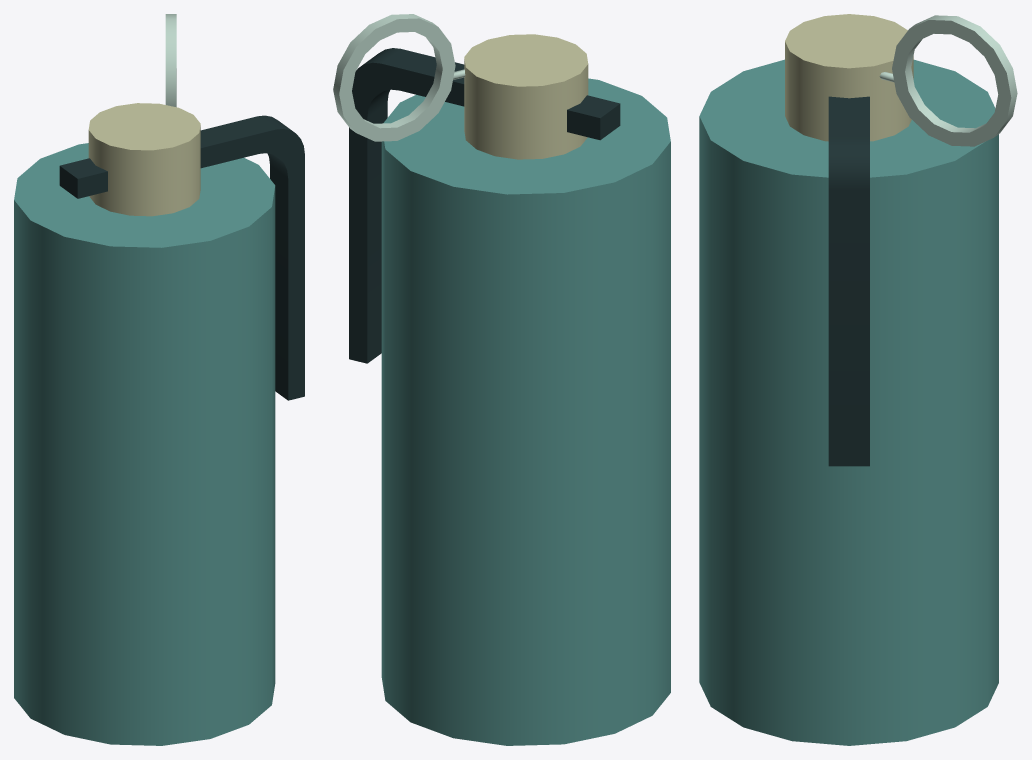
Rendered from Granade 1.fbx.
3 renders of one model, left to right at view 1: azimuth 30°, elevation 25°; view 2: azimuth 150°, elevation 25°; view 3: azimuth 270°, elevation 25°, orthographic. The views are drawn at different scales.
Visible parts, largest first — view 1: Granade 1; view 2: Granade 1; view 3: Granade 1.
Part boxes in pixels (x1,y1,x2,y2): Granade 1: [14, 14, 304, 745]; Granade 1: [333, 14, 670, 745]; Granade 1: [699, 14, 1017, 745].
Bounding box in the file's own units: 0.2019 × 0.4506 × 0.1844.
